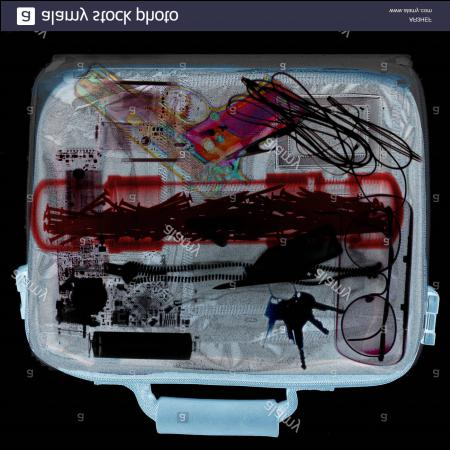Pistol: (72, 61, 306, 202)
